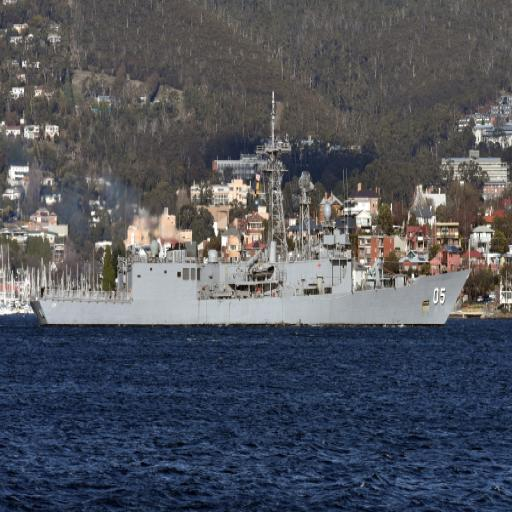Fragata: (24, 91, 475, 331)
